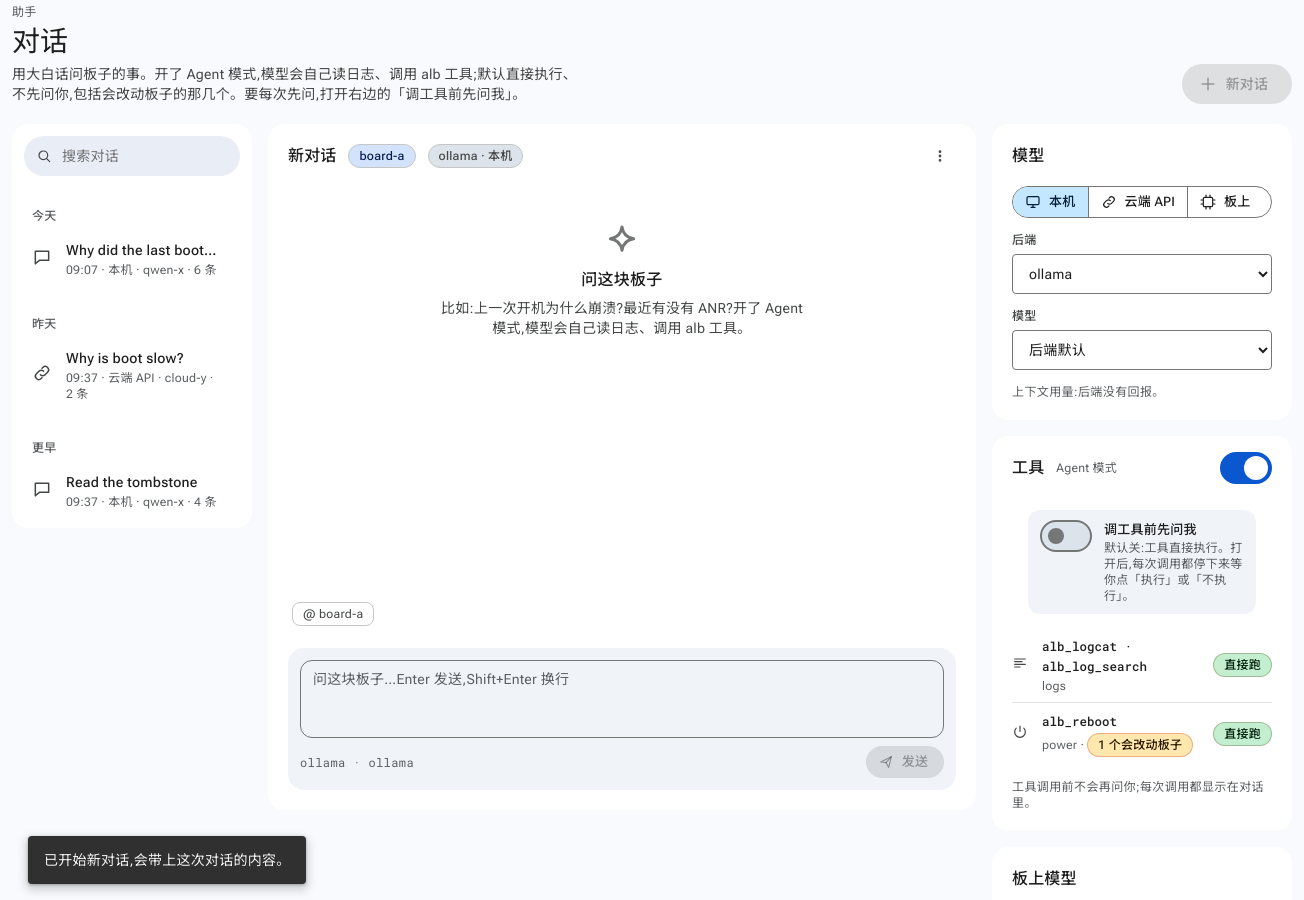
Scenario: side column › tools: agent switch is bound to the shell store, tools are labelled 'runs' (never 'asks')
Expected: the text "直接跑" is shown 2 times, [1213,653,1272,677]; [1213,722,1272,746]
Expected: the text "1 个会改动板子" is shown, [1087,733,1193,757]
Click the checkbox named "Agent 模式".
click(1246, 468)  # box [1220,452,1272,484]
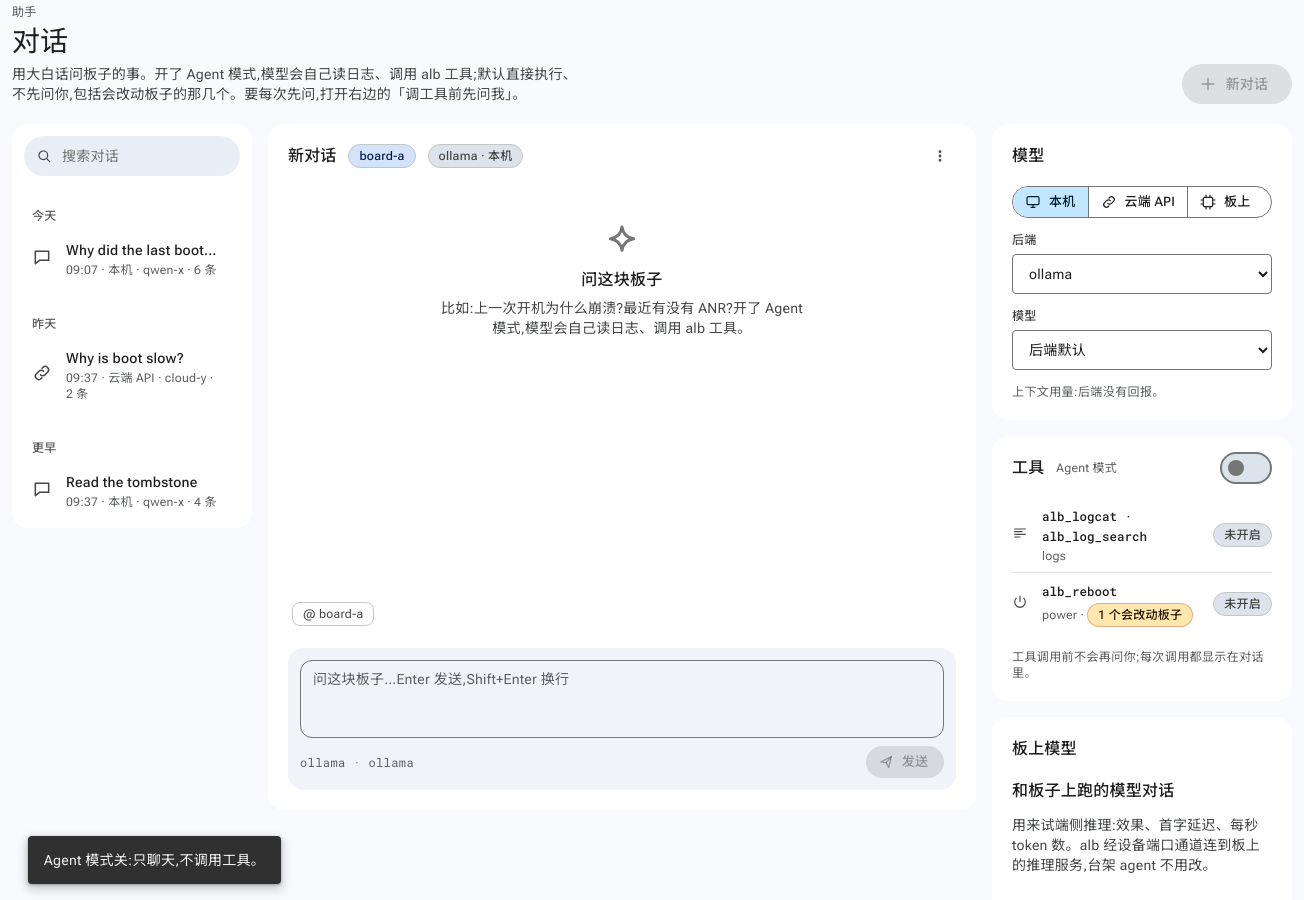
Expected: the text "未开启" below "alb_logcat · alb_log_search" is shown, [1224,528,1261,542]
